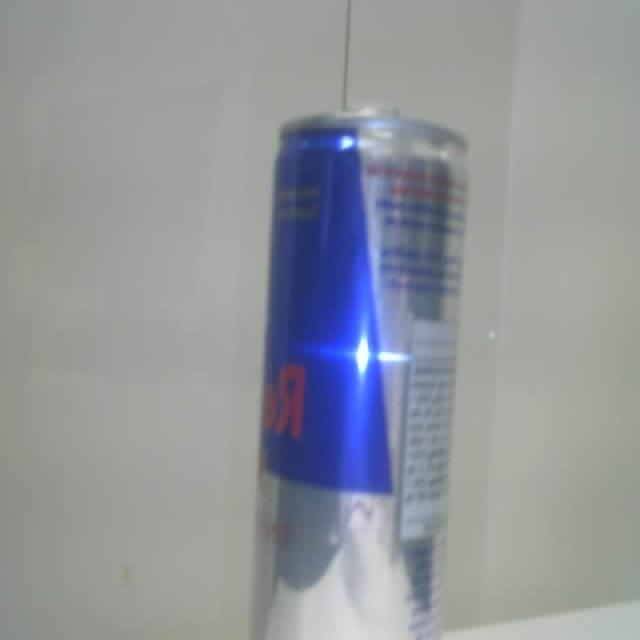redbull can: (252, 110, 465, 639)
